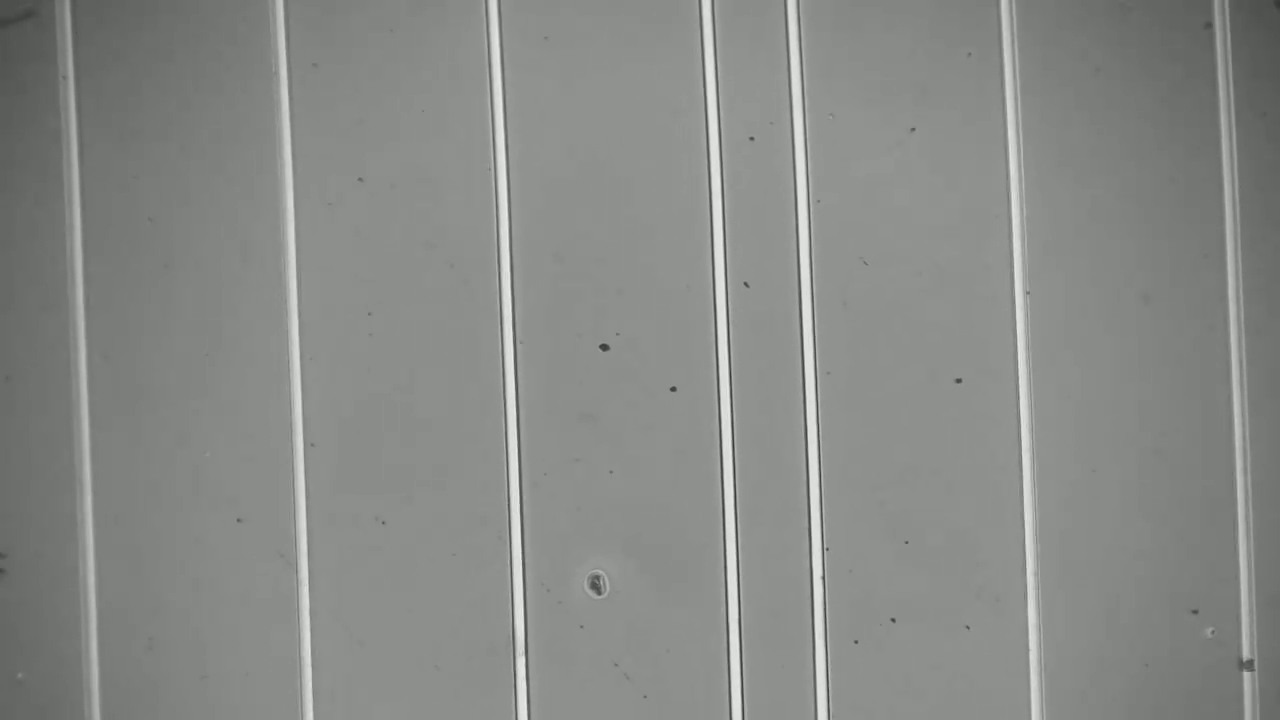stains_enbedded: (1232, 649, 1272, 682)
